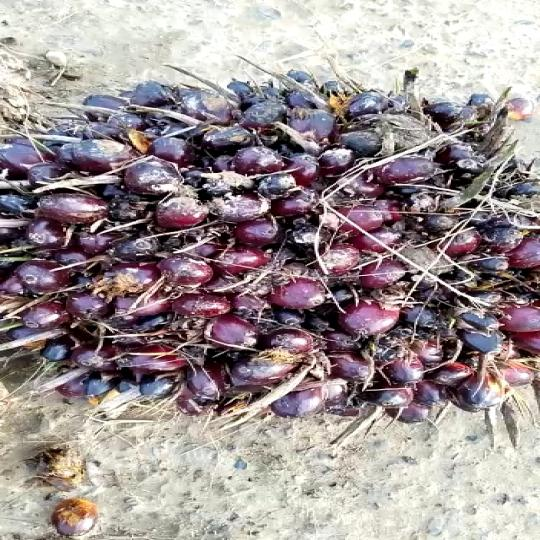mentah: (1, 56, 540, 437)
